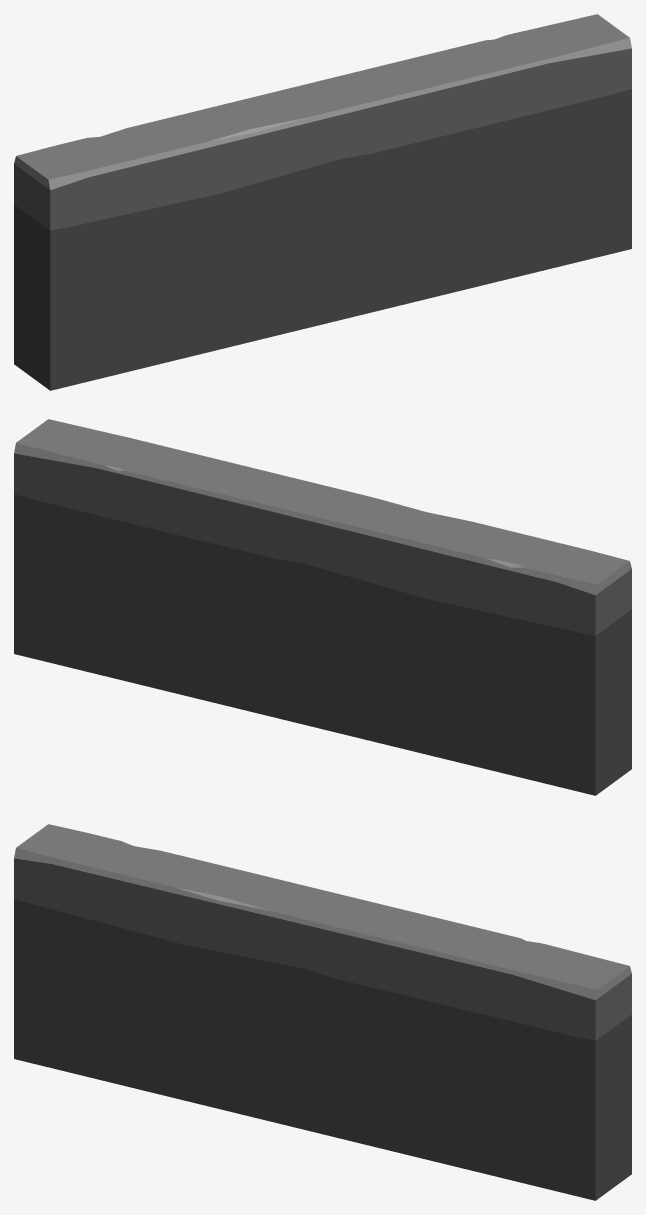
File: 20C_Kerb_01.fbx
3 views of the same model, one above another, from view 1: azimuth 30°, elevation 25°; view 2: azimuth 150°, elevation 25°; view 3: azimuth 330°, elevation 25° (orthographic).
Visible parts, largest first — view 1: 20C_Kerb_01; view 2: 20C_Kerb_01; view 3: 20C_Kerb_01.
Boxes of the visible parts, x1=… form: 20C_Kerb_01: x1=14, y1=14, x2=631, y2=390; 20C_Kerb_01: x1=14, y1=419, x2=631, y2=795; 20C_Kerb_01: x1=14, y1=824, x2=631, y2=1200.
Size of the model in its own units: 40 by 13.78 by 4.34.
